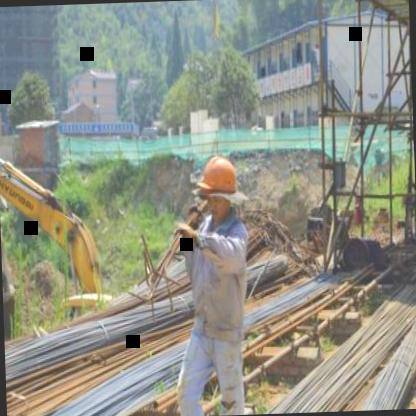helmet: (191, 148, 242, 222)
